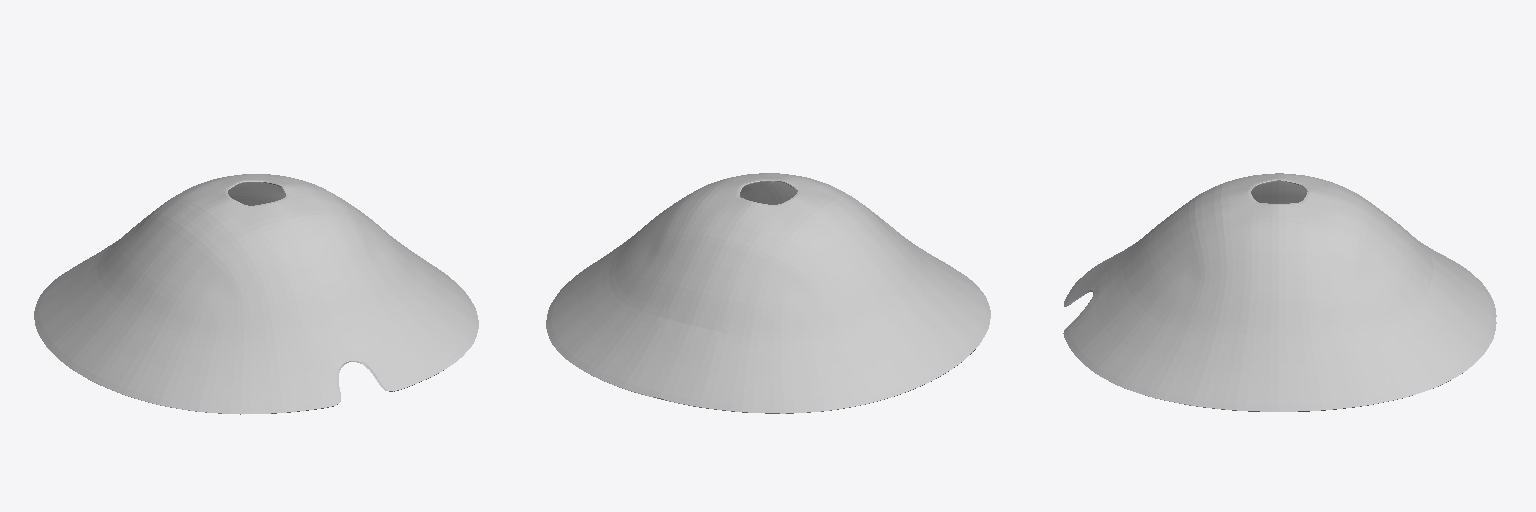
File: Hormiguero.obj
The picture shows the model from 3 angles: view 1: azimuth 30°, elevation 25°; view 2: azimuth 150°, elevation 25°; view 3: azimuth 270°, elevation 25°; orthographic projection.
Visible parts, largest first — view 1: Cube; view 2: Cube; view 3: Cube.
Boxes of the visible parts, <box> form: Cube: <box>34,174,478,414</box>; Cube: <box>546,173,990,413</box>; Cube: <box>1063,173,1496,411</box>.
Size of the model in its own units: 14.74 by 4.79 by 14.63.